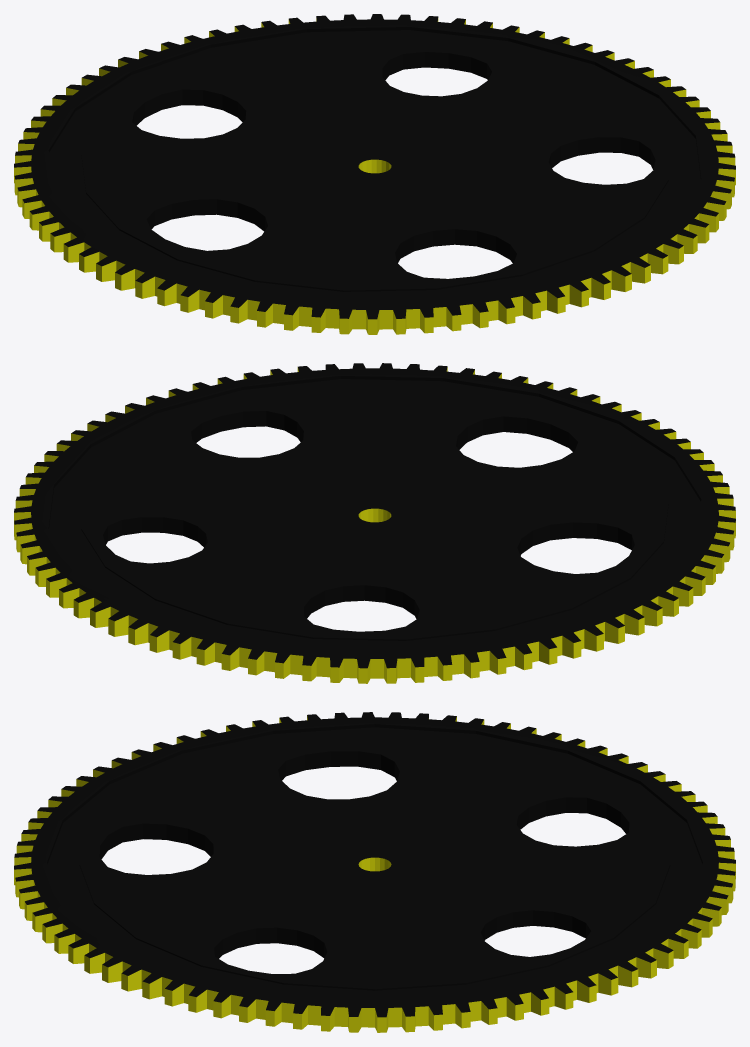
Rendered from D8GearV3.fbx.
3 views of the same model, one above another, from view 1: azimuth 30°, elevation 25°; view 2: azimuth 150°, elevation 25°; view 3: azimuth 270°, elevation 25° (orthographic).
Parts seen in each view (by area): view 1: D8GearV3; view 2: D8GearV3; view 3: D8GearV3.
Boxes of the visible parts, <box> form: D8GearV3: <box>14,14,735,334</box>; D8GearV3: <box>14,363,735,683</box>; D8GearV3: <box>14,712,735,1032</box>.
Bounding box in the file's own units: 16.8 × 0.5 × 16.8.
